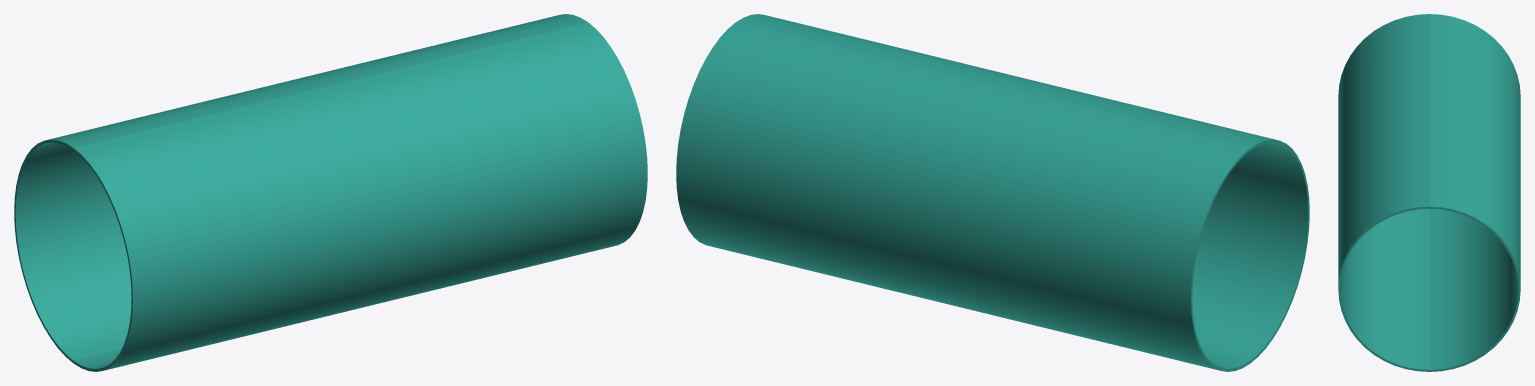
Rendered from flare_knockout_drum_pressure.glb.
3 renders of one model, left to right at view 1: azimuth 30°, elevation 25°; view 2: azimuth 150°, elevation 25°; view 3: azimuth 270°, elevation 25°, orthographic. The views are drawn at different scales.
Parts seen in each view (by area): view 1: pressure__front, pressure__back; view 2: pressure__back, pressure__front; view 3: pressure__back, pressure__front.
Part boxes in pixels (x1,y1,x2,y2): pressure__front: (73, 22, 647, 371); pressure__back: (14, 14, 587, 363); pressure__back: (676, 22, 1250, 371); pressure__front: (736, 14, 1309, 363); pressure__back: (1429, 14, 1520, 371); pressure__front: (1338, 14, 1429, 371).
Bounding box in the file's own units: 4 × 1.6 × 1.6.
